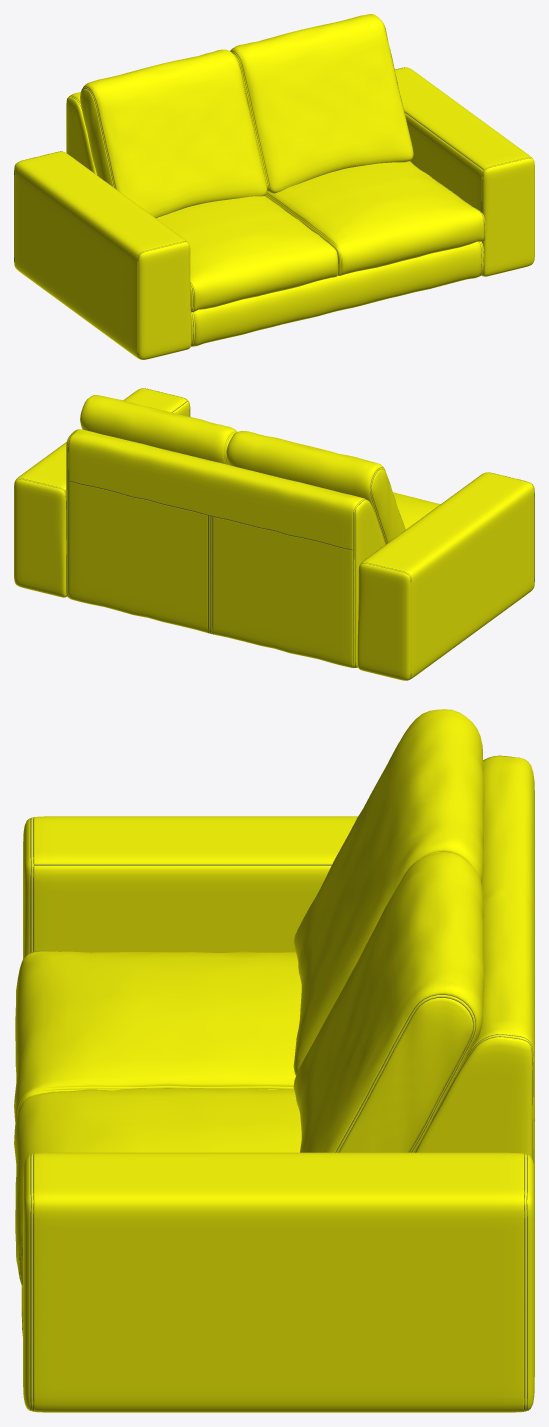
3 renders of one model, top to bottom at view 1: azimuth 30°, elevation 25°; view 2: azimuth 150°, elevation 25°; view 3: azimuth 270°, elevation 25°, orthographic. The views are drawn at different scales.
Parts seen in each view (by area): view 1: bodyyellowgreen41, rightarm41, leftarm41; view 2: bodyyellowgreen41, rightarm41, leftarm41; view 3: bodyyellowgreen41, leftarm41, rightarm41.
Part boxes in pixels (x1=…): bodyyellowgreen41: x1=66, y1=14, x2=485, y2=346; rightarm41: x1=14, y1=151, x2=191, y2=359; leftarm41: x1=395, y1=67, x2=534, y2=276; bodyyellowgreen41: x1=66, y1=395, x2=440, y2=667; rightarm41: x1=357, y1=472, x2=534, y2=680; leftarm41: x1=14, y1=388, x2=190, y2=597; bodyyellowgreen41: x1=14, y1=709, x2=534, y2=1335; leftarm41: x1=23, y1=1152, x2=534, y2=1412; rightarm41: x1=23, y1=816, x2=357, y2=958.
Size of the model in its own units: 1.64 by 0.7704 by 0.9321.
7 materials, 5 textured.
